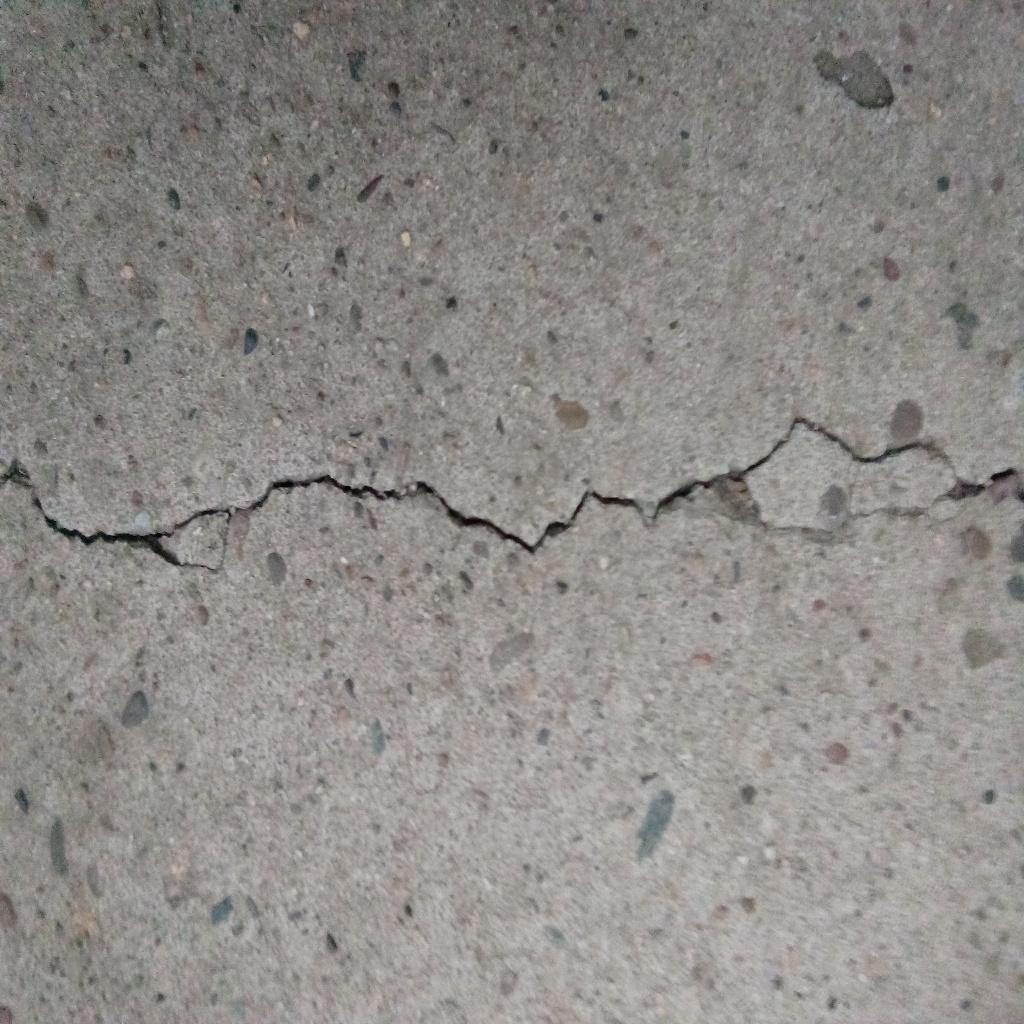Crack: (1, 413, 1024, 578)
Spalling: (812, 49, 894, 109)
